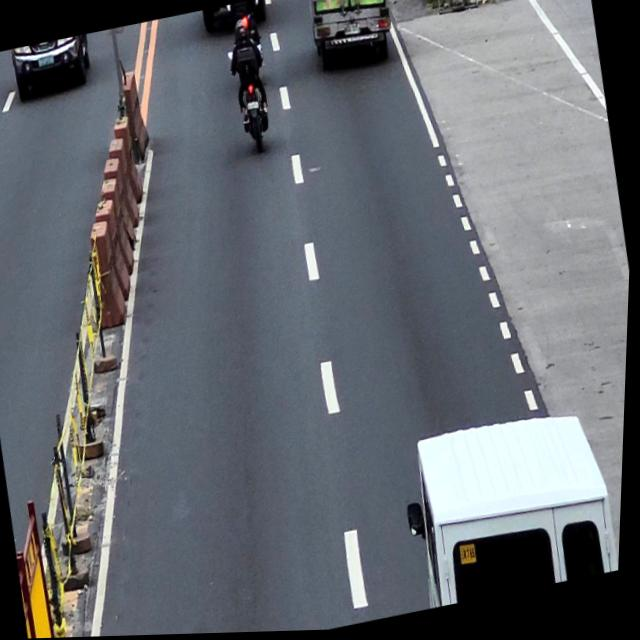Car: (395, 406, 628, 613)
License-Plate: (342, 22, 361, 40), (247, 101, 260, 111)
Motorcycle: (225, 43, 280, 158)
Truck: (303, 0, 400, 77)
